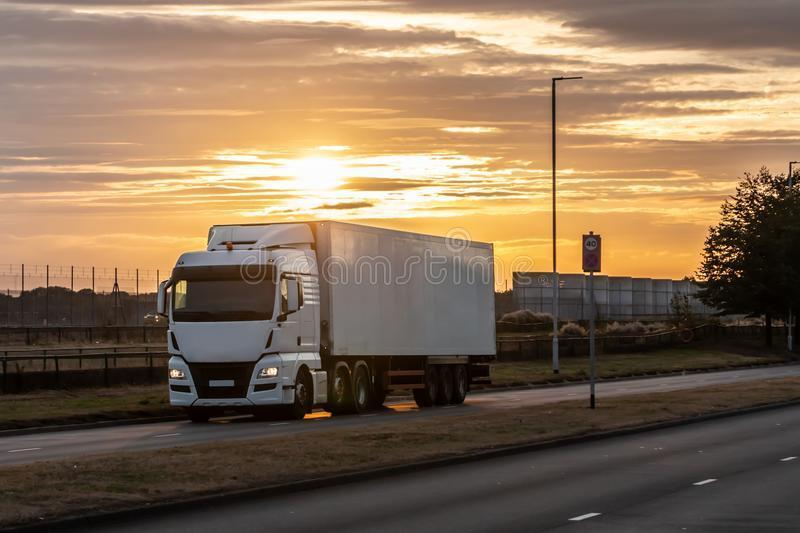truck: (156, 220, 497, 423)
